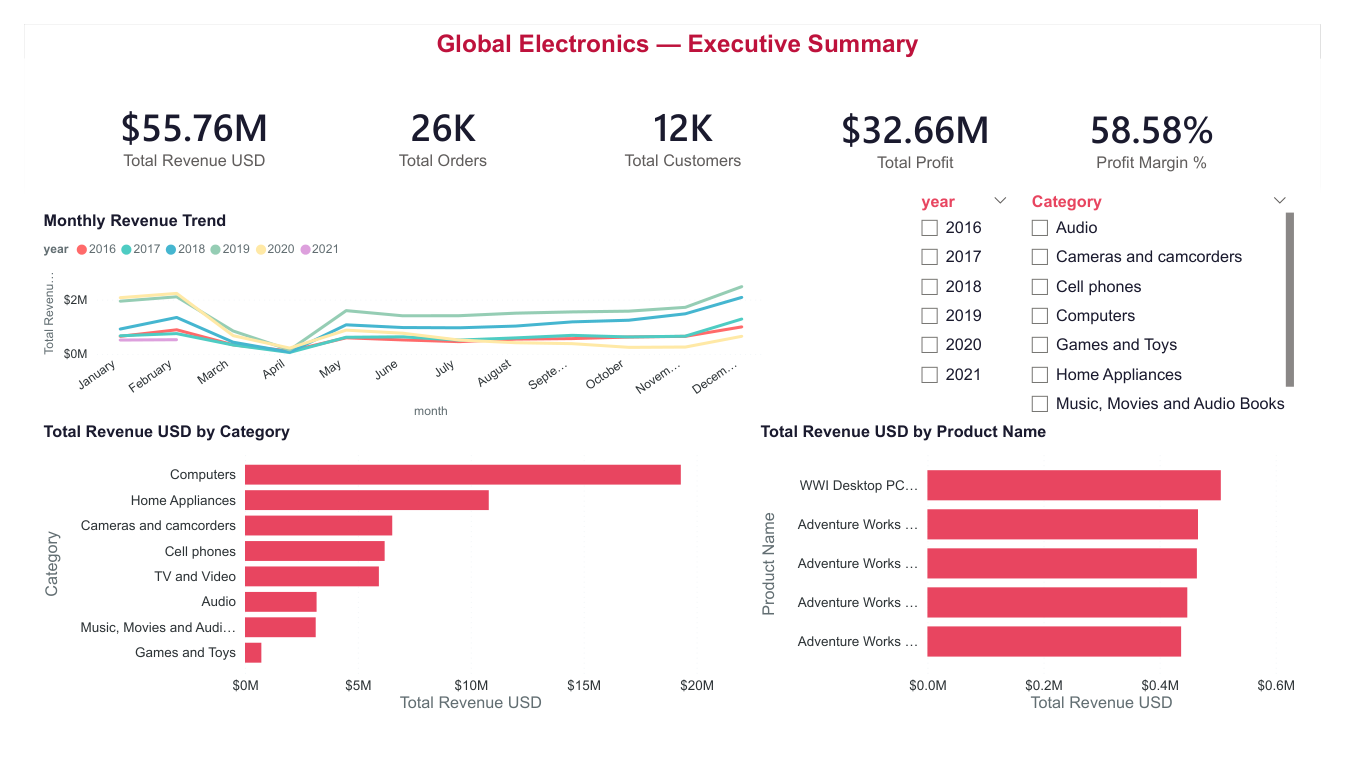

The dashboard page shown, as its layout file describes it:
{"tool":"powerbi","page":{"name":"Executive summary","canvas":[1280,720],"ordinal":0},"visuals":[{"type":"cardVisual","fields":{"Data":["Table_measure.Total Revenue USD"]},"box":[42.4,36.1,252.9,147.9],"z":0},{"type":"cardVisual","fields":{"Data":["Table_measure.Total Orders"]},"box":[295.3,36.1,237,147.9],"z":1000},{"type":"cardVisual","fields":{"Data":["Table_measure.Total Customers"]},"box":[532.3,36.1,237,147.9],"z":2000},{"type":"cardVisual","fields":{"Data":["Table_measure.Total Profit"]},"box":[769.3,37.6,222.7,147.9],"z":3000},{"type":"lineChart","title":"Monthly Revenue Trend","fields":{"Y":["Table_measure.Total Revenue USD"],"Category":["dim_date.month"],"Series":["dim_date.year"]},"box":[14.3,184.5,722.1,210],"z":4000},{"type":"slicer","fields":{"Values":["dim_date.year"]},"box":[873.2,160.7,109.8,229],"z":5000},{"type":"cardVisual","fields":{"Data":["Table_measure.Profit Margin %"]},"box":[992,37.6,243.4,147.9],"z":6000},{"type":"clusteredBarChart","title":"Total Revenue USD by Category","fields":{"Category":["Products.Category"],"Y":["Table_measure.Total Revenue USD"]},"box":[14.3,394.5,671.2,289.5],"z":7000},{"type":"slicer","fields":{"Values":["Products.Category"]},"box":[982.5,160.7,276.8,230.6],"z":8000},{"type":"clusteredBarChart","title":"Total Revenue USD by Product Name","fields":{"Category":["Products.Product Name"],"Y":["Table_measure.Total Revenue USD"]},"box":[722.1,394.5,537.6,289.5],"z":9000},{"type":"textbox","box":[296.7,0,696.7,70],"z":10000}]}

Visuals, with their boxes in screenshot pixels (x1, y1, x2, y2), scaled from the page's 1280x720 canvas onto the 1345x778 screenshot:
cardVisual - Table_measure.Total Revenue USD: [45, 39, 310, 199]
cardVisual - Table_measure.Total Orders: [310, 39, 559, 199]
cardVisual - Table_measure.Total Customers: [559, 39, 808, 199]
cardVisual - Table_measure.Total Profit: [808, 41, 1042, 200]
"Monthly Revenue Trend" lineChart: [15, 199, 774, 426]
slicer - dim_date.year: [918, 174, 1033, 421]
cardVisual - Table_measure.Profit Margin %: [1042, 41, 1298, 200]
"Total Revenue USD by Category" clusteredBarChart: [15, 426, 720, 739]
slicer - Products.Category: [1032, 174, 1323, 423]
"Total Revenue USD by Product Name" clusteredBarChart: [759, 426, 1324, 739]
textbox: [312, 0, 1044, 76]
